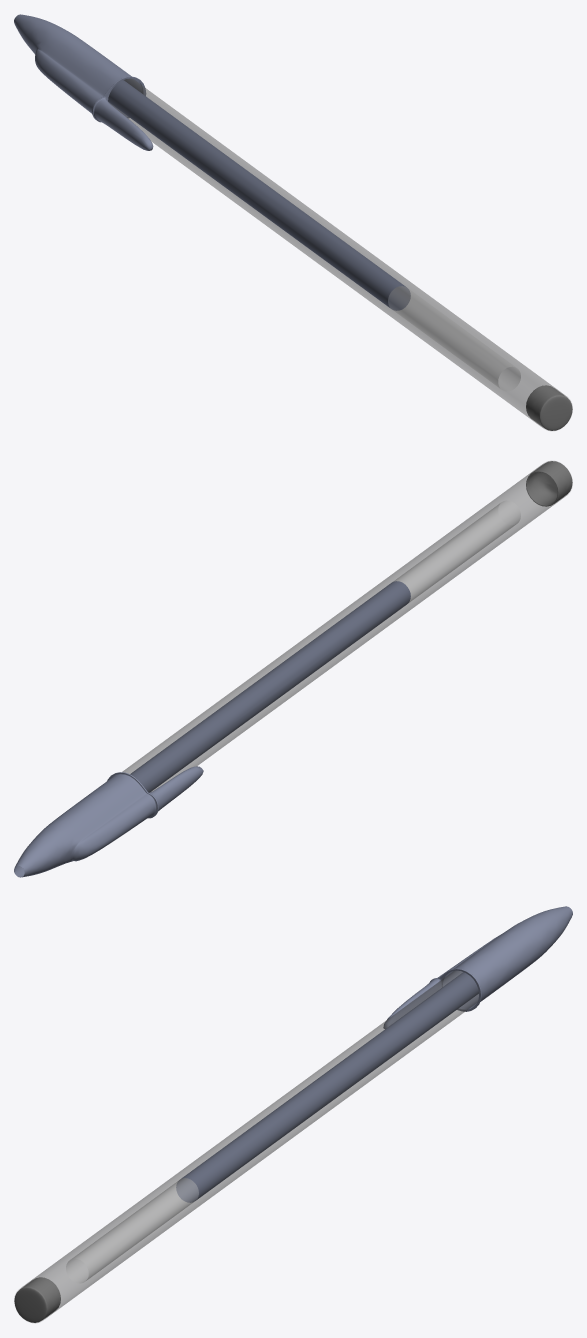
File: lapiz.glb
The picture shows the model from 3 angles, top to bottom: view 1: azimuth 30°, elevation 25°; view 2: azimuth 150°, elevation 25°; view 3: azimuth 330°, elevation 25°; orthographic projection.
Visible parts, largest first — view 1: lapiz; view 2: lapiz; view 3: lapiz.
Boxes of the visible parts, x1=… form: lapiz: x1=14, y1=14, x2=572, y2=430; lapiz: x1=14, y1=461, x2=572, y2=877; lapiz: x1=14, y1=906, x2=572, y2=1323.
Bounding box in the file's own units: 0.8 × 0.6 × 14.
